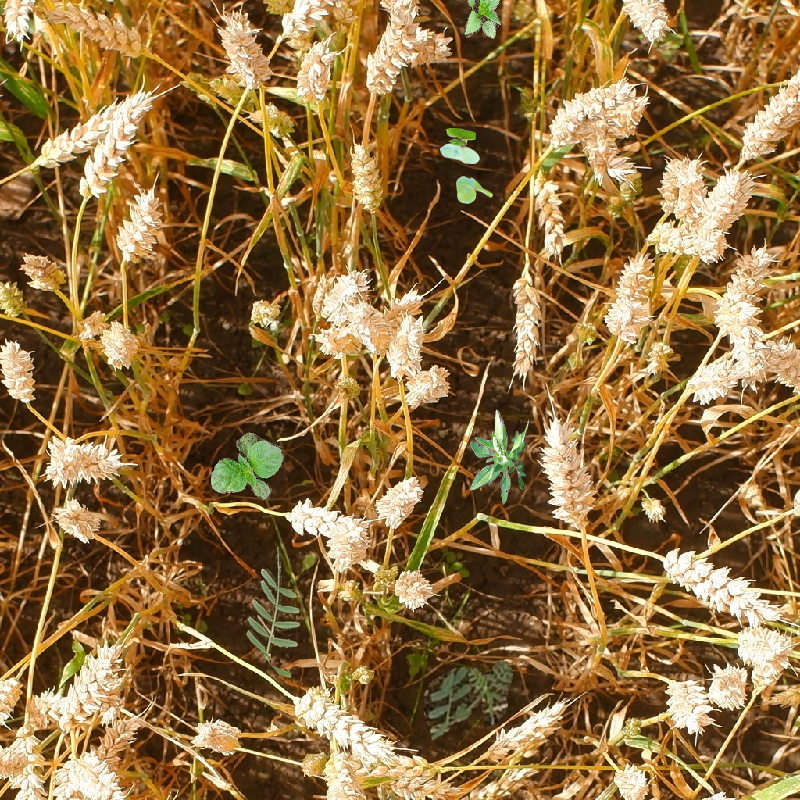spikelet: (33, 87, 152, 166), (660, 546, 779, 623), (292, 688, 396, 761), (75, 100, 144, 200), (537, 415, 597, 528), (52, 639, 123, 726), (737, 65, 800, 157), (546, 78, 635, 141), (53, 1, 149, 58), (362, 14, 423, 95), (506, 262, 547, 379), (604, 252, 655, 339), (214, 8, 268, 90), (488, 698, 567, 753), (42, 436, 124, 487), (524, 167, 571, 255), (291, 29, 344, 107), (112, 185, 164, 264), (697, 165, 753, 230), (61, 749, 132, 800), (645, 215, 719, 261), (284, 495, 358, 540), (344, 138, 388, 213), (450, 762, 537, 799), (661, 673, 712, 735), (1, 734, 48, 800), (372, 472, 425, 529), (685, 351, 737, 405), (711, 277, 758, 336), (581, 135, 636, 185), (385, 311, 426, 378), (656, 152, 703, 210), (733, 622, 792, 667), (1, 336, 40, 404), (319, 268, 366, 323), (729, 320, 768, 383), (616, 1, 673, 44), (97, 317, 142, 370), (18, 248, 72, 292), (189, 714, 244, 757), (323, 518, 366, 573), (402, 362, 452, 409), (320, 749, 366, 800), (52, 496, 101, 543), (707, 662, 751, 711), (390, 564, 435, 611), (313, 319, 364, 360), (409, 24, 452, 68), (1, 1, 44, 43), (245, 293, 287, 336), (768, 335, 799, 391), (610, 760, 650, 800), (642, 336, 676, 377), (1, 273, 29, 319), (1, 672, 22, 727), (637, 492, 668, 524)
weed: (244, 554, 304, 681), (423, 660, 513, 741), (470, 409, 530, 505), (214, 434, 282, 498), (463, 1, 501, 39), (440, 128, 480, 164), (456, 176, 493, 204)
